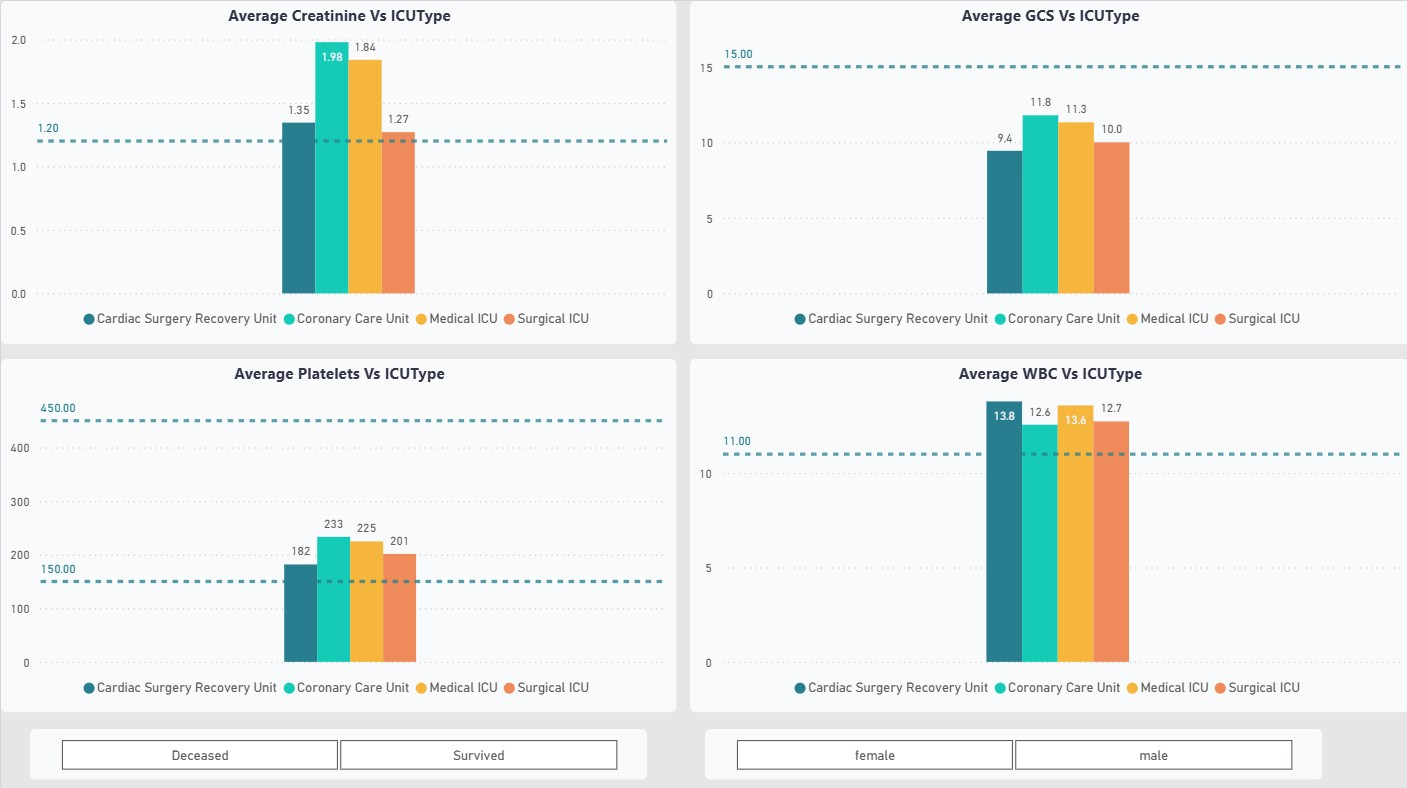

This screenshot's page, from the dashboard's own definition file:
{"tool":"powerbi","page":{"name":"Vitals","canvas":[1280,720],"ordinal":2},"visuals":[{"type":"clusteredColumnChart","title":"Average Creatinine Vs ICUType","fields":{"Series":["ICU data.ICUType"],"Y":["Avg(ICU data.Mean_Creatinine.x)"]},"box":[0,0,613.5,311.5],"z":0},{"type":"clusteredColumnChart","title":"Average GCS Vs ICUType","fields":{"Series":["ICU data.ICUType"],"Y":["Avg(ICU data.Mean_GCS.x)"]},"box":[626.2,0,653.8,311.5],"z":1000},{"type":"clusteredColumnChart","title":"Average WBC Vs ICUType","fields":{"Series":["ICU data.ICUType"],"Y":["Avg(ICU data.Mean_WBC.x)"]},"box":[626.2,325.3,653.8,321.1],"z":2000},{"type":"clusteredColumnChart","title":"Average Platelets Vs ICUType","fields":{"Series":["ICU data.ICUType"],"Y":["Avg(ICU data.Mean_Platelets.x)"]},"box":[0,325.3,613.5,321.1],"z":3000},{"type":"slicer","fields":{"Values":["ICU data.Mortality"]},"box":[26.5,662.3,560.5,45.6],"z":4000},{"type":"slicer","fields":{"Values":["ICU data.Gender"]},"box":[640,662.3,560.5,45.6],"z":5000}]}

Visuals, with their boxes in screenshot pixels (x1, y1, x2, y2), scaled from the page's 1280x720 canvas onto the 1407x788 screenshot:
"Average Creatinine Vs ICUType" clusteredColumnChart: 0,0,674,341
"Average GCS Vs ICUType" clusteredColumnChart: 688,0,1406,341
"Average WBC Vs ICUType" clusteredColumnChart: 688,356,1406,707
"Average Platelets Vs ICUType" clusteredColumnChart: 0,356,674,707
slicer - ICU data.Mortality: 29,725,645,775
slicer - ICU data.Gender: 704,725,1320,775
